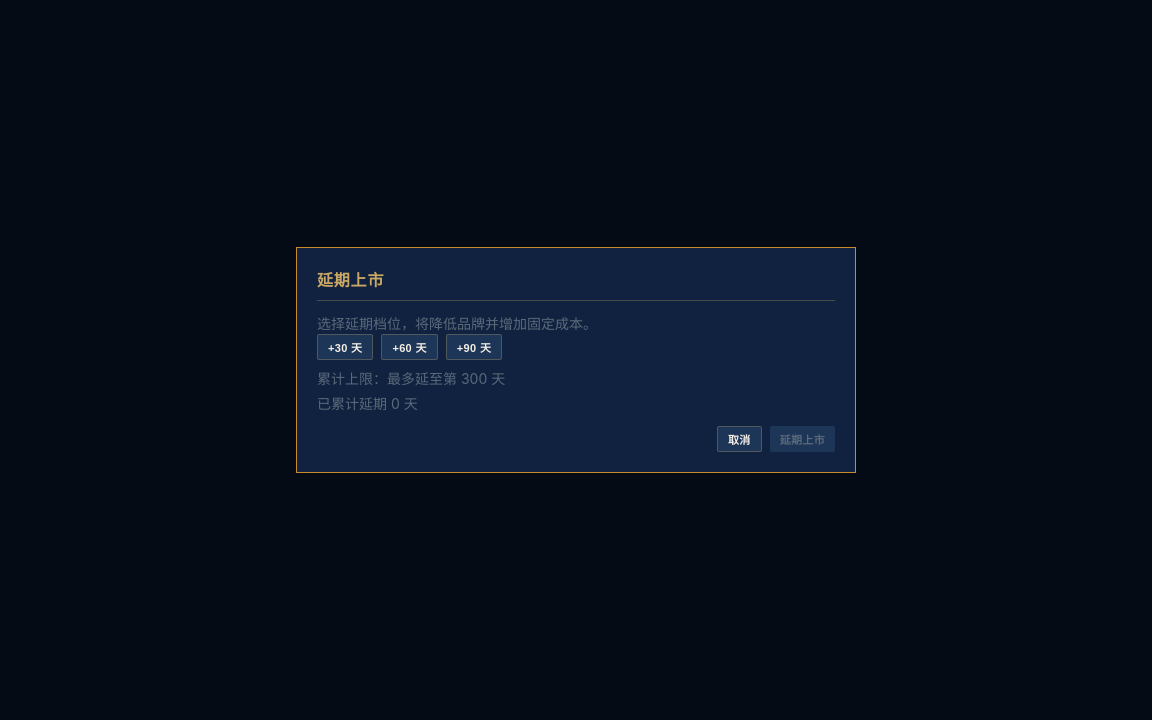
Test: DIALOG-DELAY（DESIGN-C-02 §3 / V23~V24） › 品牌预览：按延期点数扣减（30 天扣 1 点），不展示转化率损失
Click the button "+30 天": point(345, 347) [317,334,373,360]
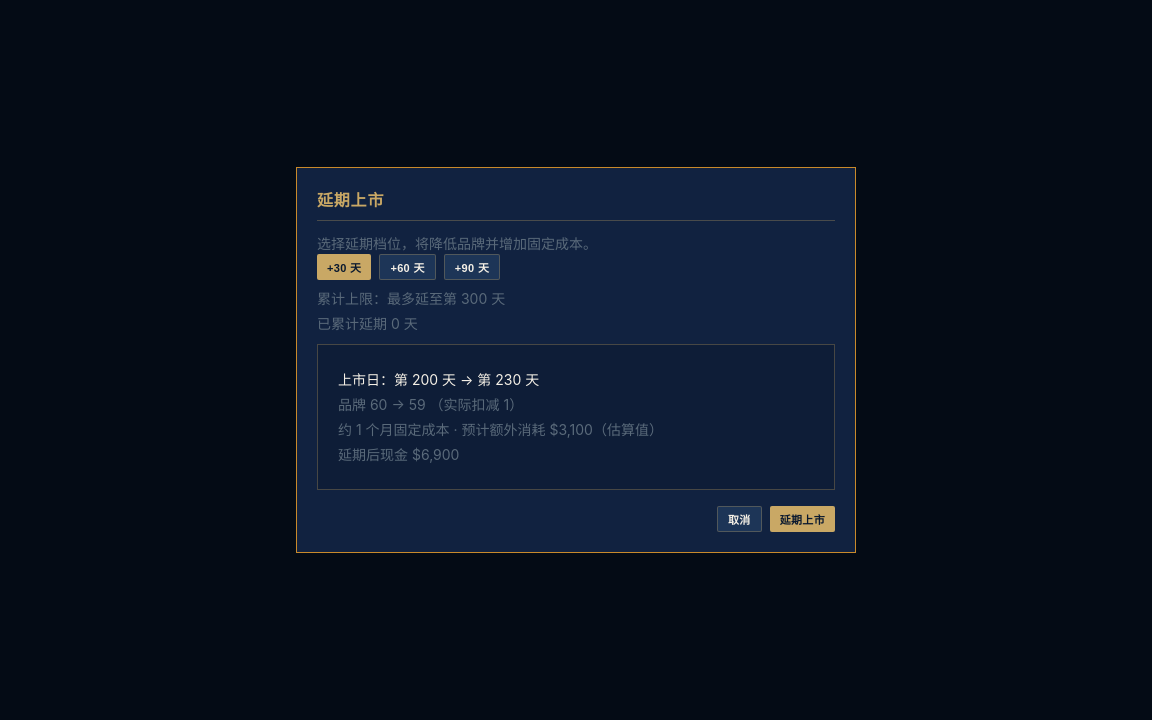
Result: the dialog shows "品牌 60 → 59" at [338,396,426,413]
Result: the dialog shows "（实际扣减 1）" at [430,396,523,413]
